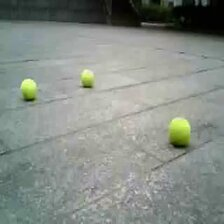tennis: (168, 117, 190, 145), (19, 79, 37, 100), (79, 69, 95, 86)
